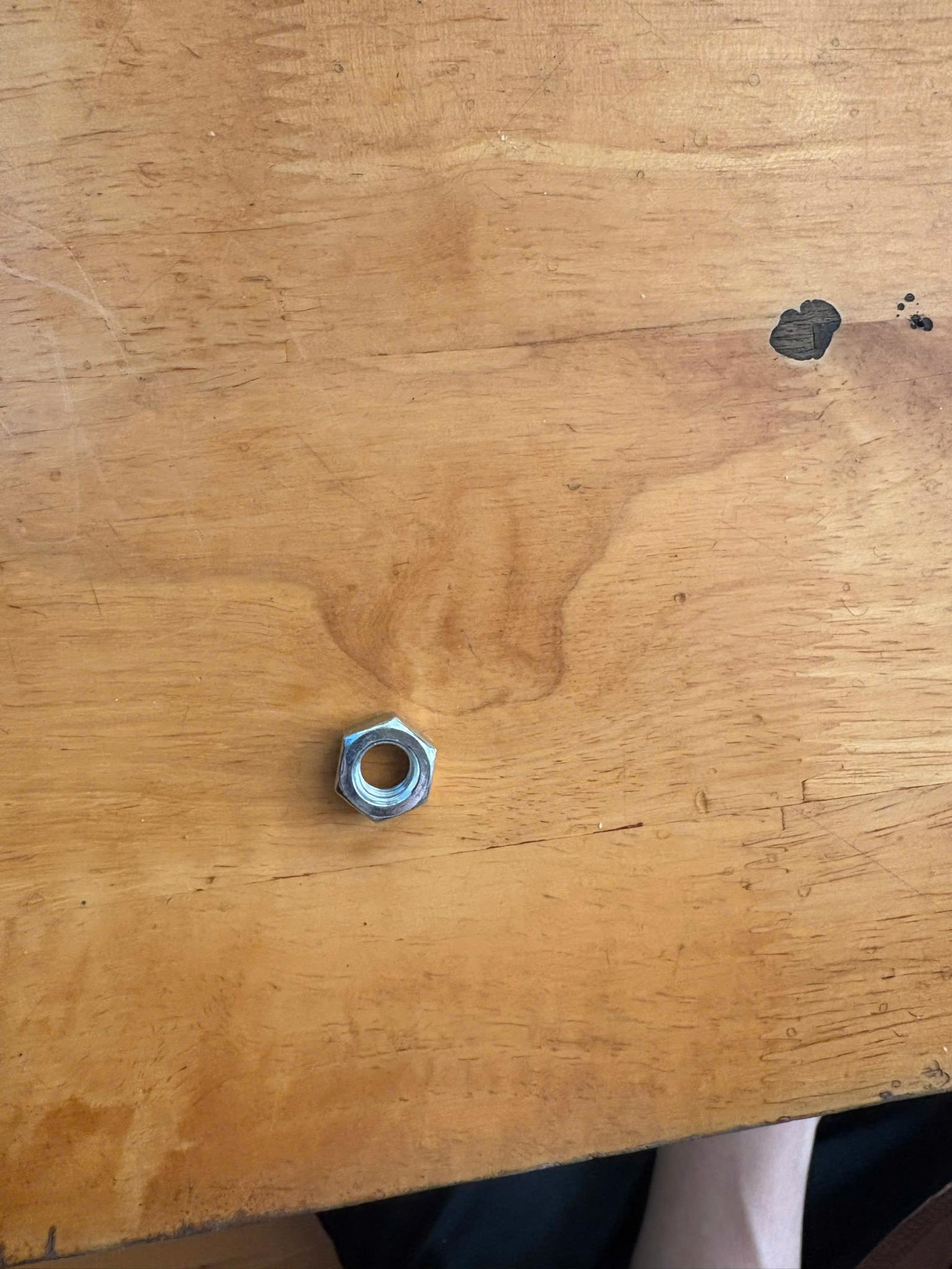nut: (325, 714, 452, 833)
